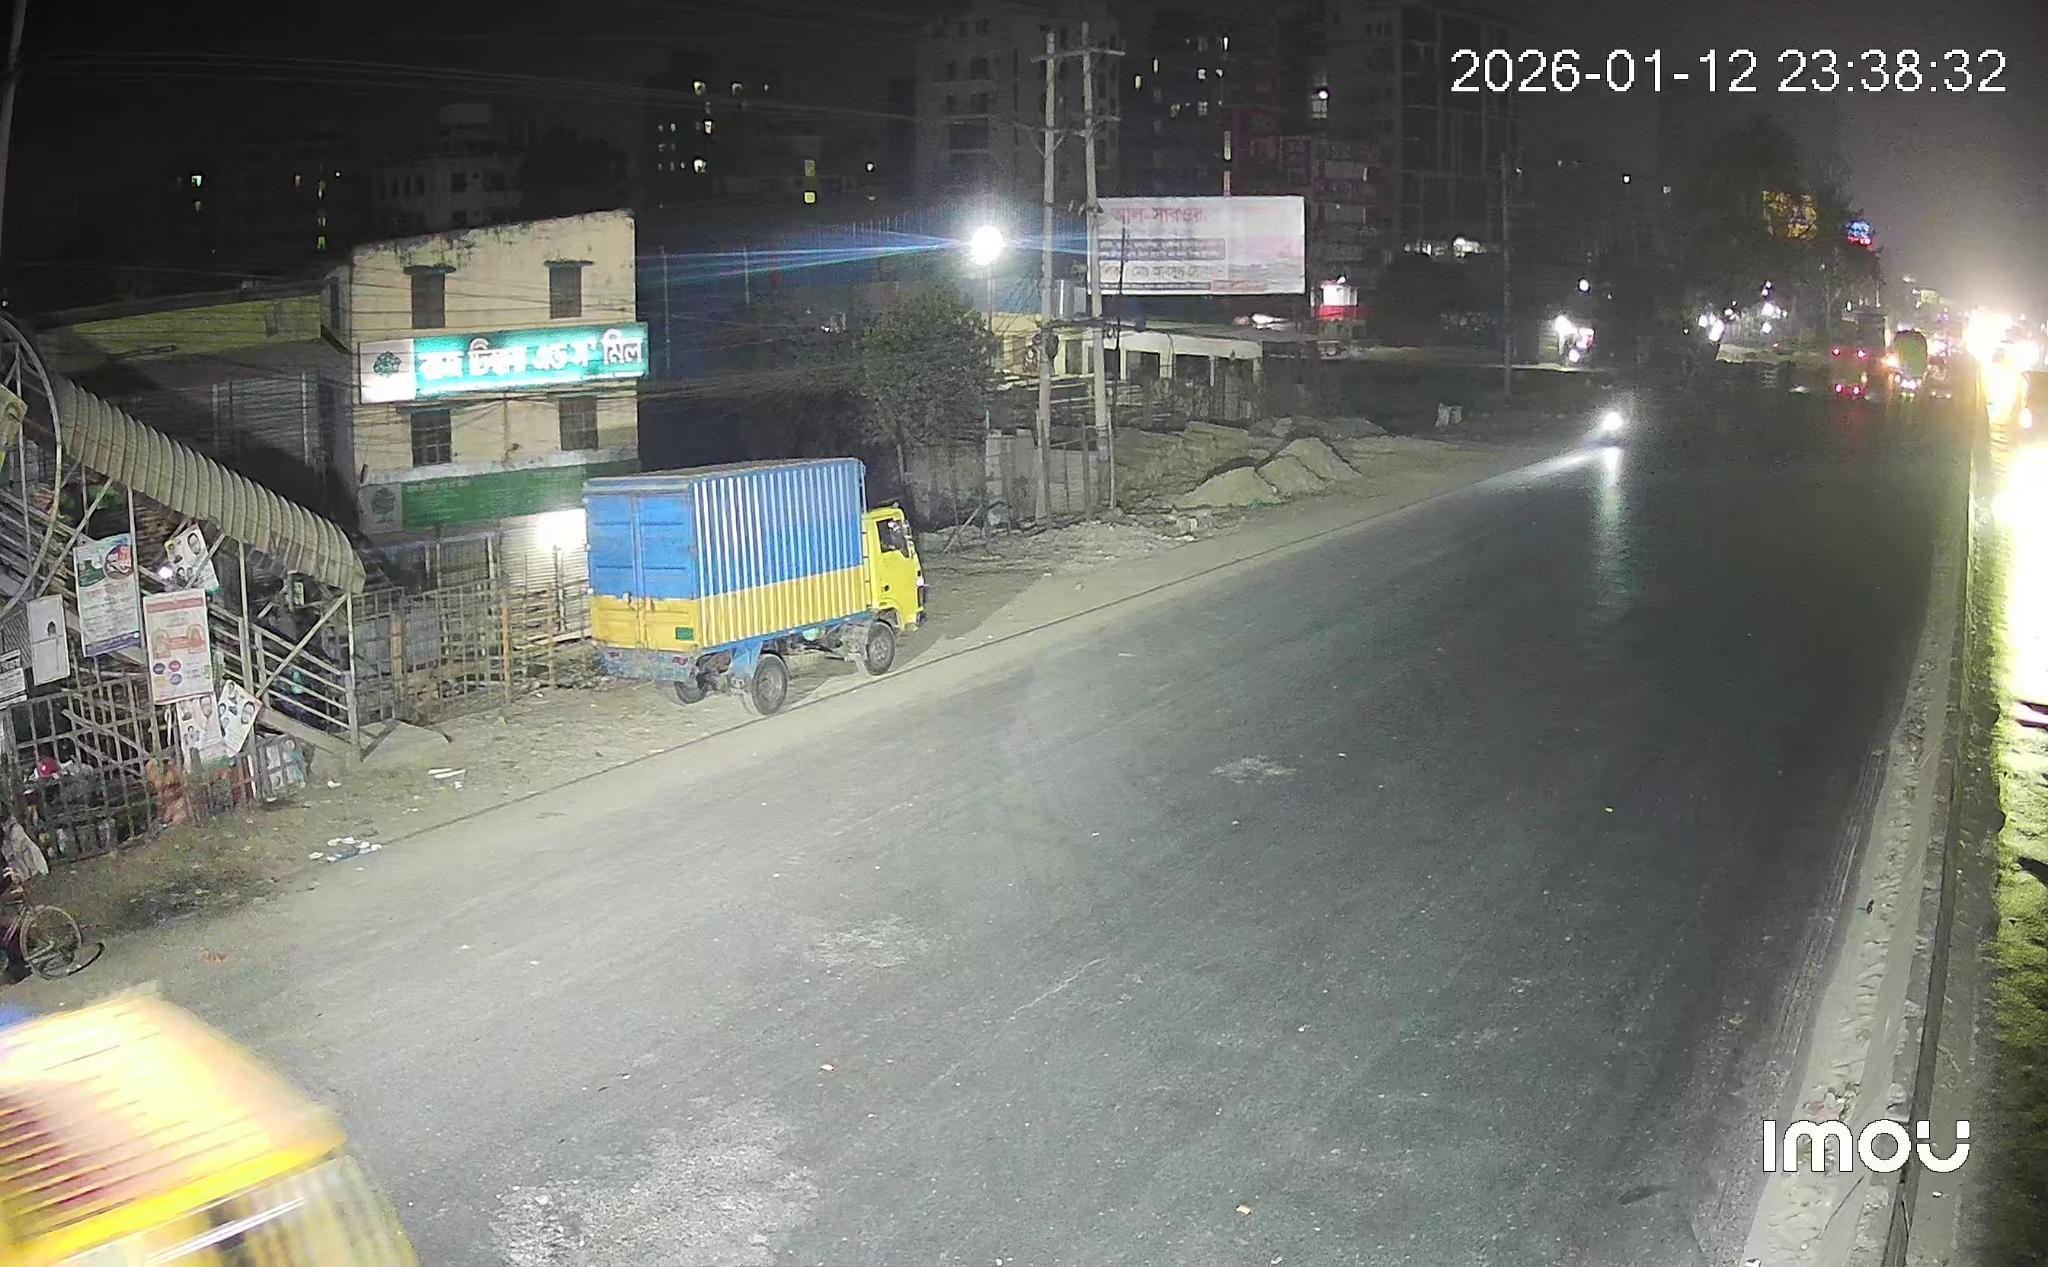Truck: (582, 458, 927, 714)
